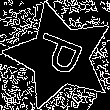P_E: (28, 30, 91, 83)
